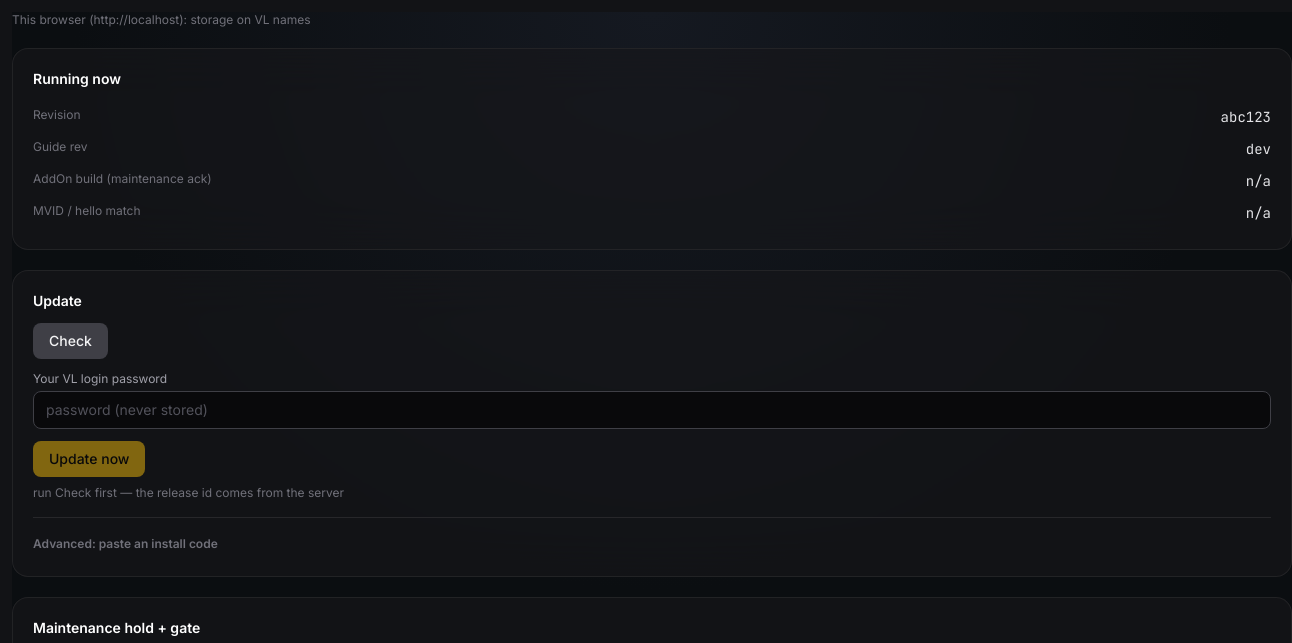
Test: UpdatesPage › primary Update now posts install-with-password with the checked release id
Check: the button "Update now" is shown, box [33,441,146,477]
Click the button with test id "check-button": (70, 341) [33,323,108,359]
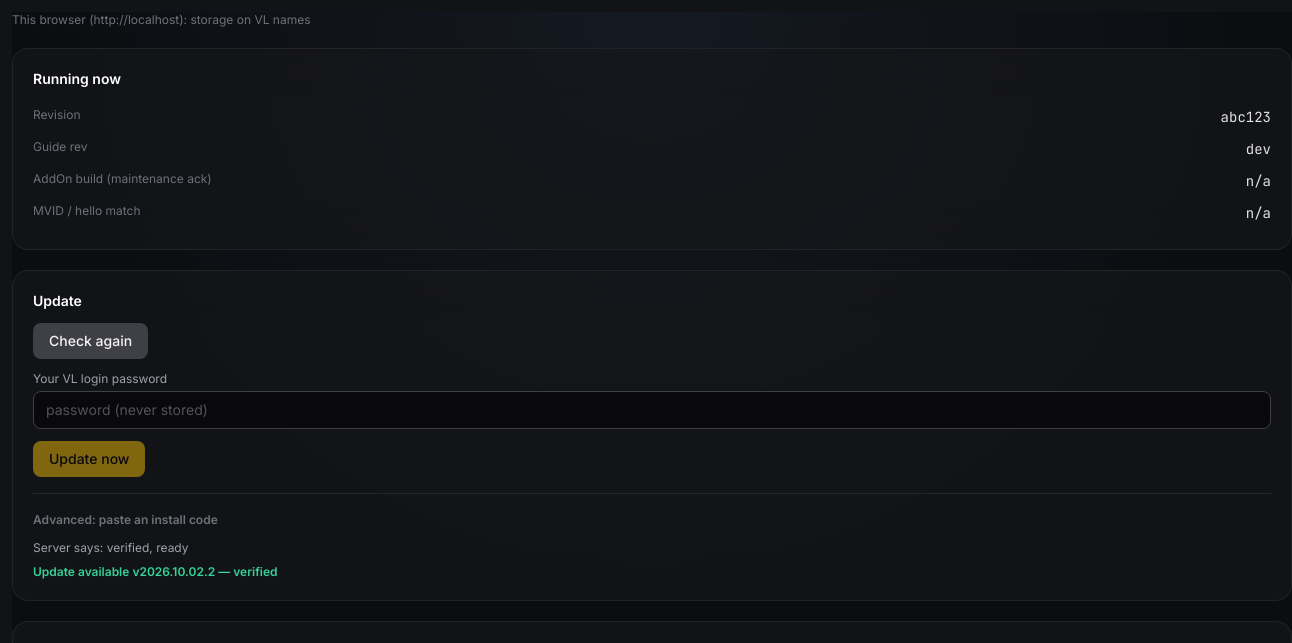
Check: the text "Update available v2026.10.02.2 — verified" is shown, box [33,564,278,579]
In the password field with test id "install-password": (652, 410) [33,391,1271,429], type "s3cret"
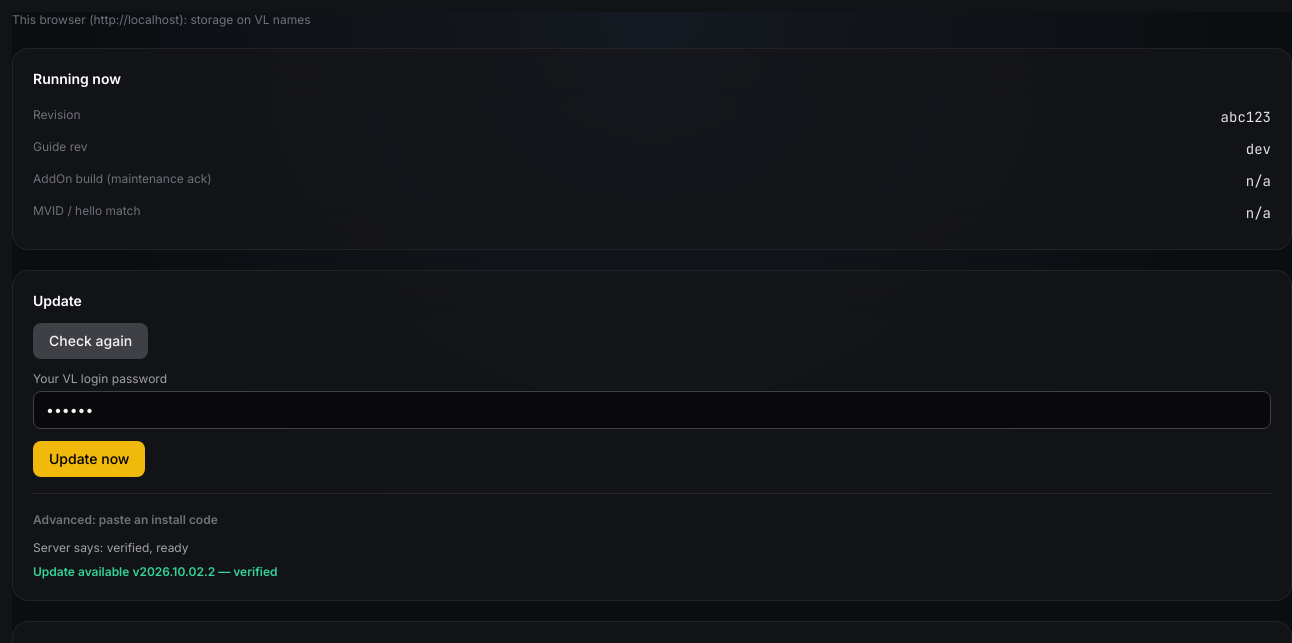
Check: the button with test id "update-button" is enabled
Click the button with test id "update-button": (89, 459) [33,441,146,477]
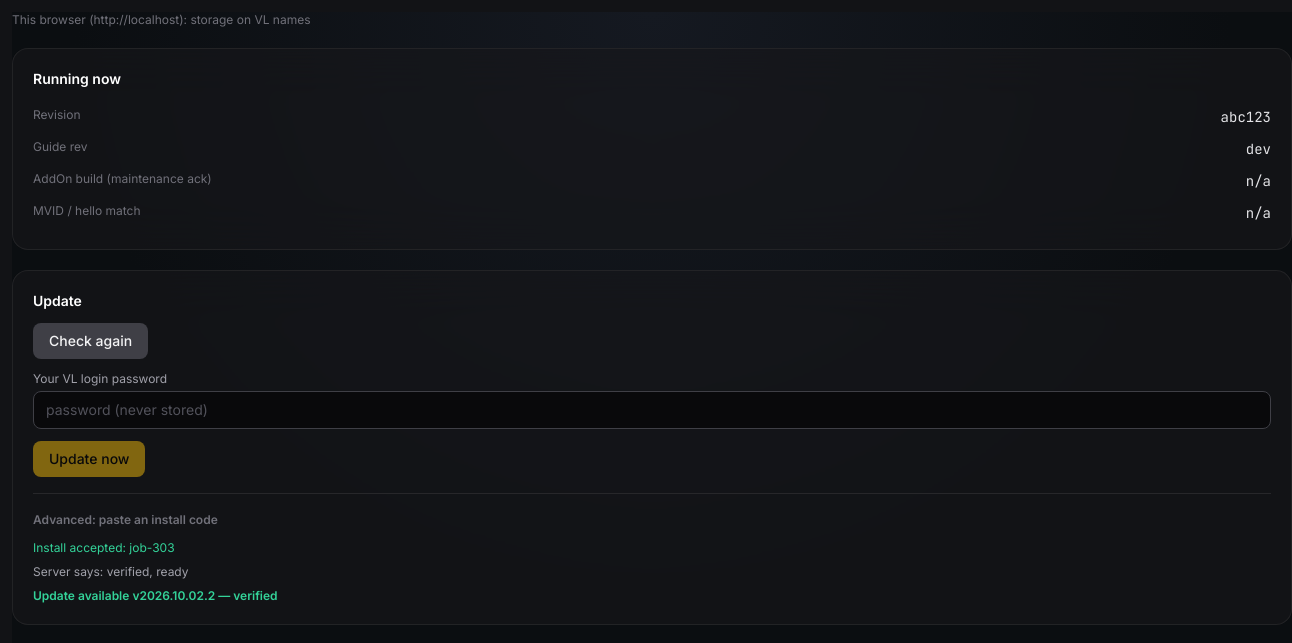
Check: the text with test id "install-accepted" shows "job-303", box [129,540,175,555]
Check: the password field with test id "install-password" is empty, box [33,391,1271,429]
